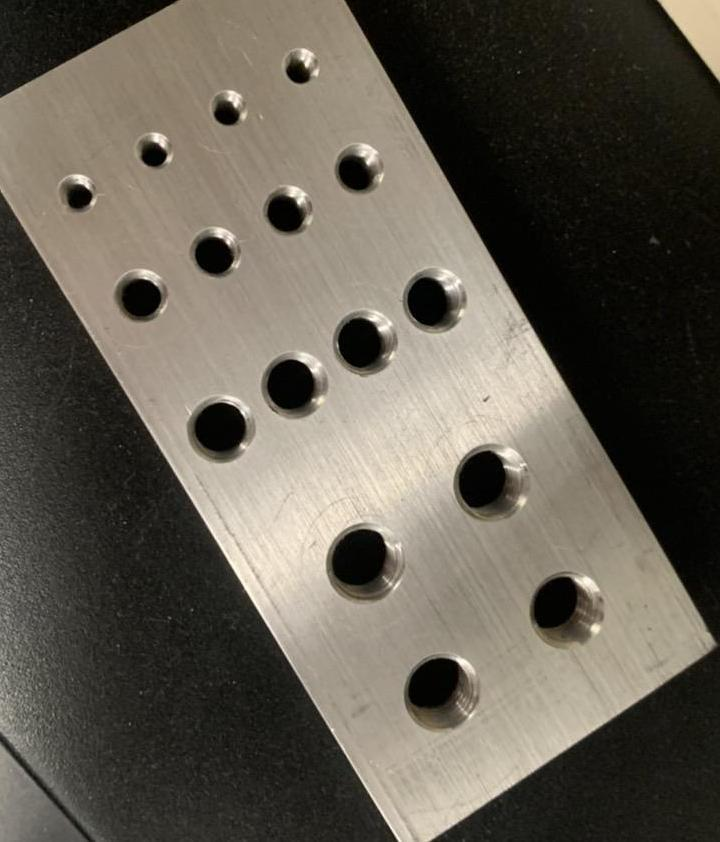hole: (524, 570, 614, 661), (452, 433, 540, 523), (330, 516, 414, 606), (402, 652, 494, 734), (187, 388, 267, 466), (334, 312, 404, 384), (266, 352, 336, 423), (408, 266, 474, 341), (337, 140, 394, 204), (118, 268, 178, 327), (268, 182, 322, 243), (194, 228, 250, 284), (58, 172, 104, 219), (134, 131, 182, 176), (215, 90, 258, 136), (285, 50, 328, 90)
